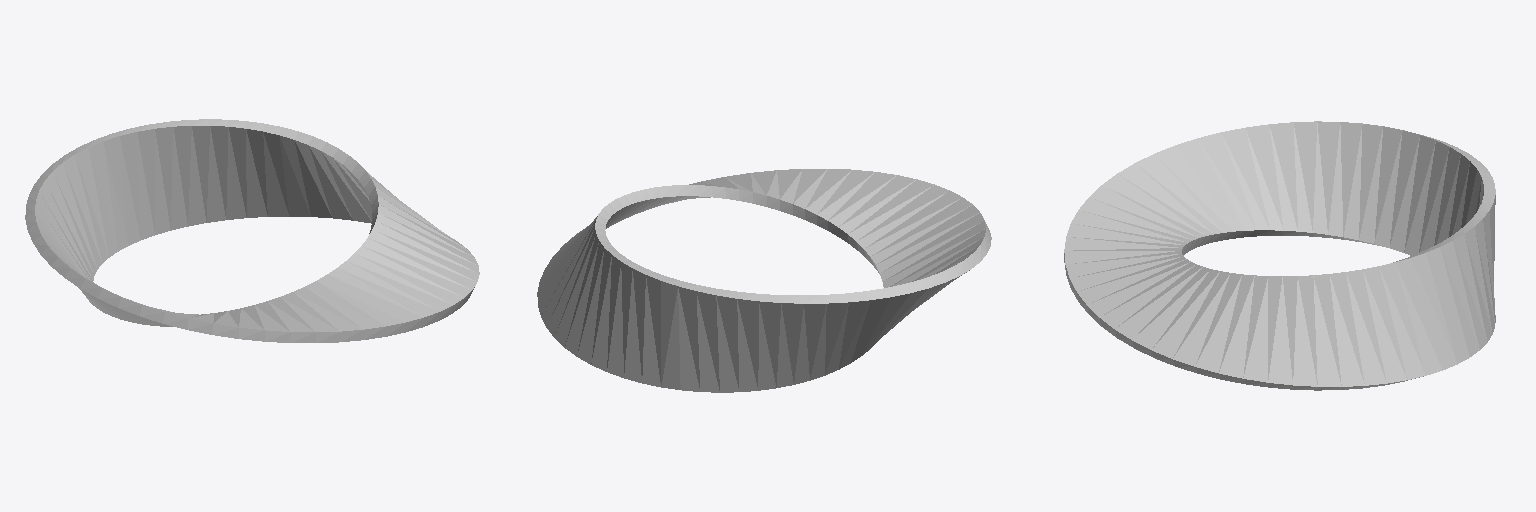
The model's file is the-mobius.obj.
3 renders of one model, left to right at view 1: azimuth 30°, elevation 25°; view 2: azimuth 150°, elevation 25°; view 3: azimuth 270°, elevation 25°, orthographic.
Visible parts, largest first — view 1: Cube; view 2: Cube; view 3: Cube.
Boxes of the visible parts, x1,y1,x2,y2 form: Cube: [25, 119, 479, 342]; Cube: [537, 169, 991, 392]; Cube: [1064, 121, 1495, 390].
Bounding box in the file's own units: 7.77 × 2.01 × 7.33.